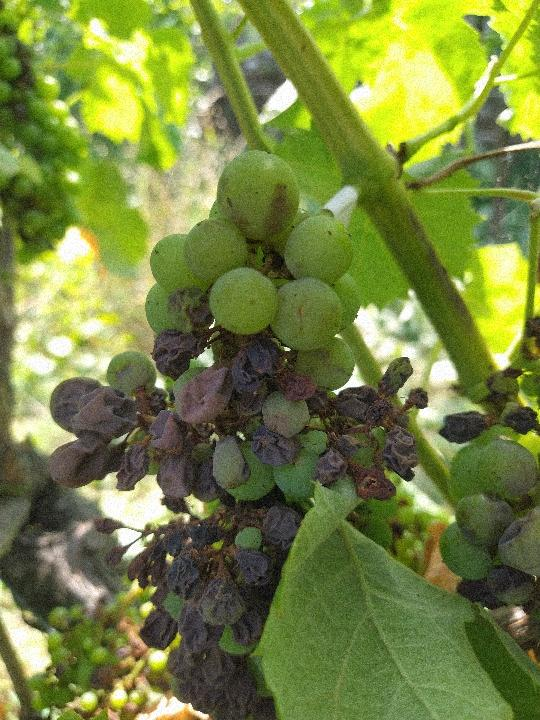grape: (44, 145, 429, 715)
